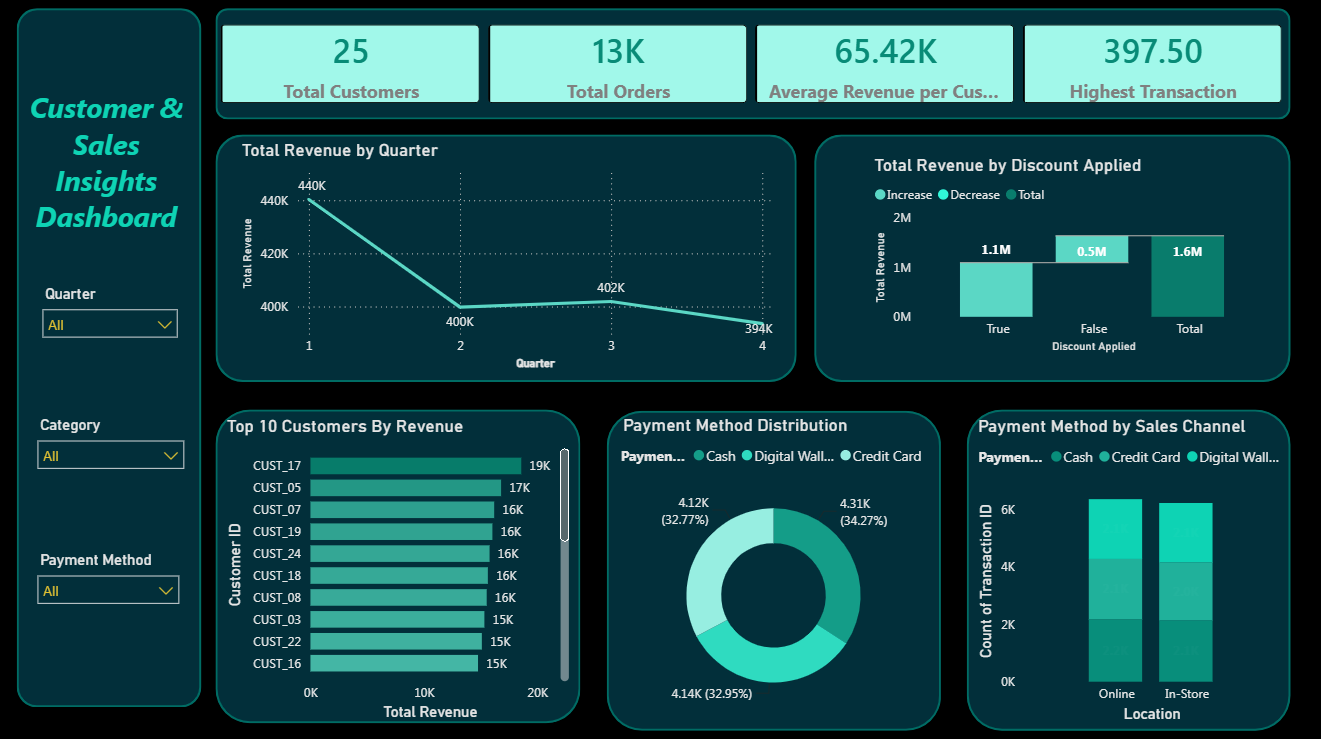

Layout of this report page (visuals, bound fields, positions):
{"tool":"powerbi","page":{"name":"Customer & Sales Insights","canvas":[1280,720],"ordinal":2},"visuals":[{"type":"shape","box":[209.9,132.7,561,238.9],"z":0},{"type":"shape","box":[209.9,398.1,352.3,302.8],"z":1000},{"type":"shape","box":[209.9,10.9,1037.5,107.4],"z":2000},{"type":"shape","box":[18.1,11.1,178.1,674.8],"z":3000},{"type":"cardVisual","fields":{"Data":["cleaned_retail_sales.Total Customers","cleaned_retail_sales.Total Orders","cleaned_retail_sales.Average Revenue per Customer","cleaned_retail_sales.Highest Transaction"]},"box":[197.9,9.7,1060.5,111],"z":4000},{"type":"shape","box":[787.8,132.7,459.7,238.9],"z":5000},{"type":"shape","box":[587.1,399.3,322.8,308.9],"z":6000},{"type":"shape","box":[935,398.1,312.5,310.1],"z":7000},{"type":"slicer","fields":{"Values":["cleaned_retail_sales.Category"]},"box":[27.7,399.3,161.7,77.2],"z":8000},{"type":"slicer","fields":{"Values":["cleaned_retail_sales.Payment Method"]},"box":[27.7,529.6,156.8,89.3],"z":9000},{"type":"lineChart","fields":{"Category":["cleaned_retail_sales.Quarter"],"Y":["cleaned_retail_sales.Total Revenue"]},"box":[230.4,137.5,522.4,226.8],"z":10000},{"type":"textbox","box":[25.3,83.2,158,193],"z":11000},{"type":"clusteredBarChart","title":"Top 10 Customers By Revenue","fields":{"Y":["cleaned_retail_sales.Total Revenue"],"Category":["cleaned_retail_sales.Customer ID"]},"box":[216,404.2,340.2,299.2],"z":12000},{"type":"donutChart","title":"Payment Method Distribution","fields":{"Category":["cleaned_retail_sales.Payment Method"],"Y":["CountNonNull(cleaned_retail_sales.Transaction ID)"]},"box":[598.3,403.5,300.5,300.5],"z":13000},{"type":"columnChart","title":"Payment Method by Sales Channel","fields":{"Category":["cleaned_retail_sales.Location"],"Y":["CountNonNull(cleaned_retail_sales.Transaction ID)"],"Series":["cleaned_retail_sales.Payment Method"]},"box":[941,404.2,300.4,300.4],"z":14000},{"type":"waterfallChart","fields":{"Category":["cleaned_retail_sales.Discount Applied"],"Y":["cleaned_retail_sales.Total Revenue"]},"box":[840.9,152,388.5,196.6],"z":15000},{"type":"slicer","fields":{"Values":["cleaned_retail_sales.Quarter"]},"box":[32.6,272.7,150.8,91.7],"z":15001}]}

Visuals, with their boxes in screenshot pixels (x1, y1, x2, y2), scaled from the page's 1280x720 canvas onto the 1321x739 screenshot:
shape: (217, 136, 796, 381)
shape: (217, 409, 580, 719)
shape: (217, 11, 1287, 121)
shape: (19, 11, 202, 704)
cardVisual - cleaned_retail_sales.Total Customers x cleaned_retail_sales.Total Orders: (204, 10, 1299, 124)
shape: (813, 136, 1287, 381)
shape: (606, 410, 939, 727)
shape: (965, 409, 1287, 727)
slicer - cleaned_retail_sales.Category: (29, 410, 195, 489)
slicer - cleaned_retail_sales.Payment Method: (29, 544, 190, 635)
lineChart - cleaned_retail_sales.Quarter x cleaned_retail_sales.Total Revenue: (238, 141, 777, 374)
textbox: (26, 85, 189, 283)
"Top 10 Customers By Revenue" clusteredBarChart: (223, 415, 574, 722)
"Payment Method Distribution" donutChart: (617, 414, 928, 723)
"Payment Method by Sales Channel" columnChart: (971, 415, 1281, 723)
waterfallChart - cleaned_retail_sales.Discount Applied x cleaned_retail_sales.Total Revenue: (868, 156, 1269, 358)
slicer - cleaned_retail_sales.Quarter: (34, 280, 189, 374)
